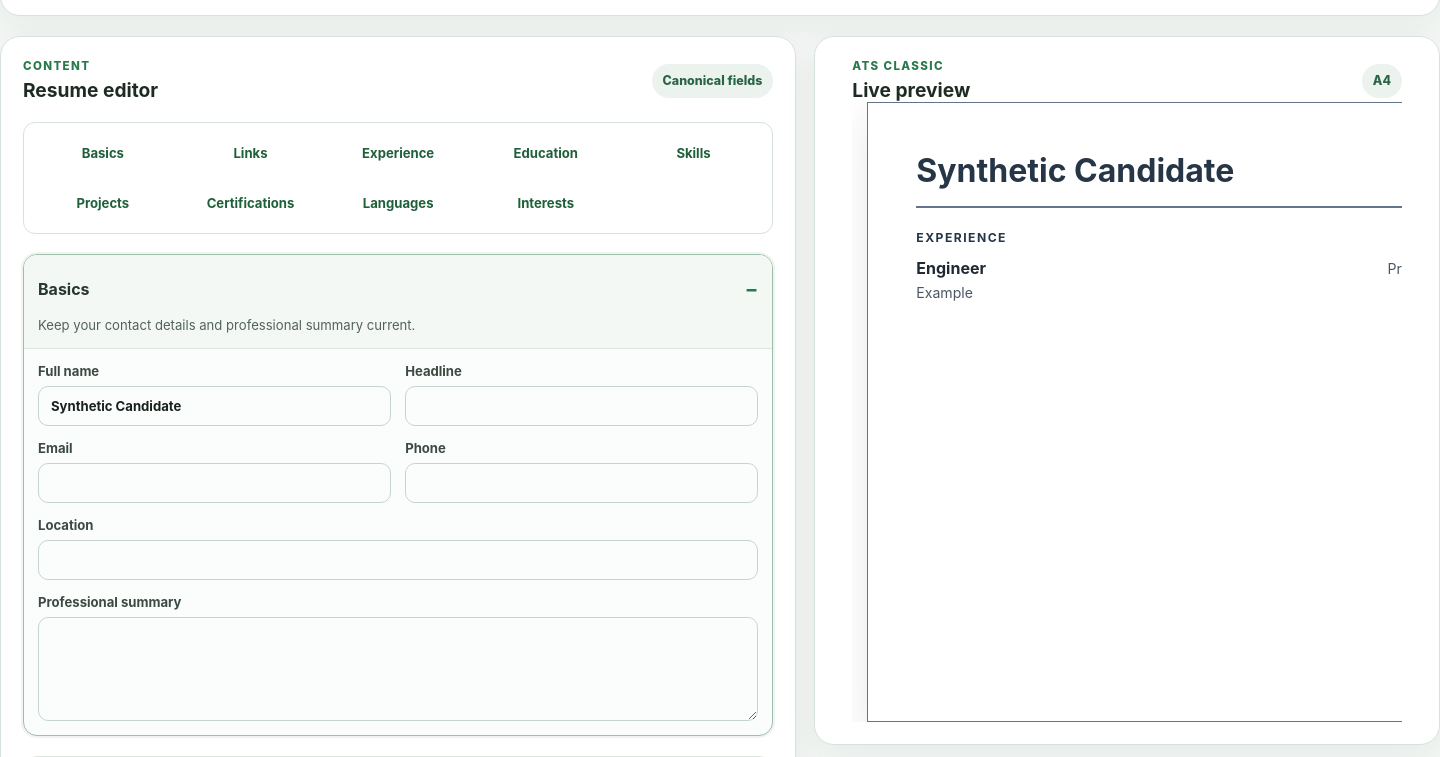
Test: ResumeWorkspace › preserves the draft after a authorization save failure
(page scrolled)
Replace the text in the field labelled "Full name" with "Preserved Draft Candidate" at (215, 406), box [38,386,391,426]
(page scrolled)
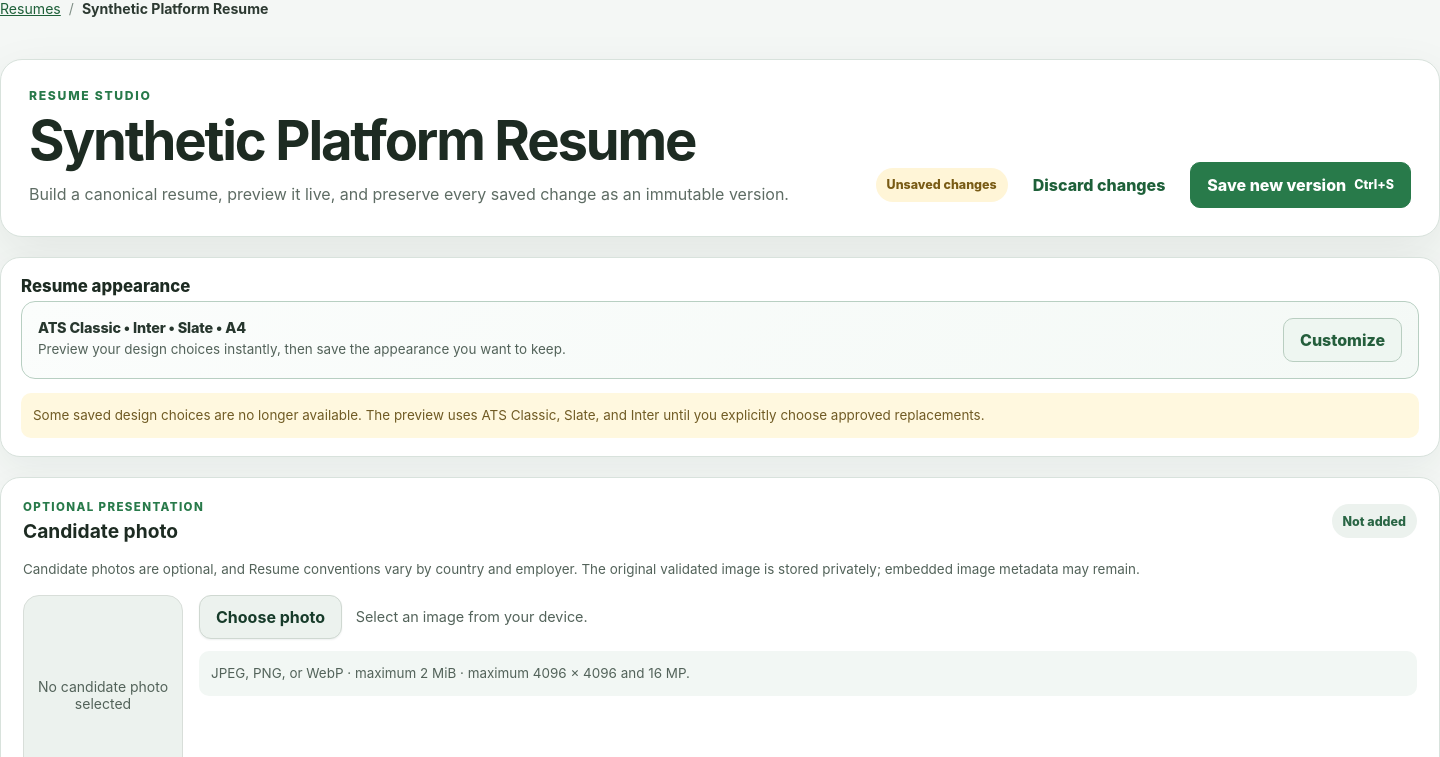
Click the button "Save new version Ctrl+S" at (1301, 185), box [1190,162,1411,208]
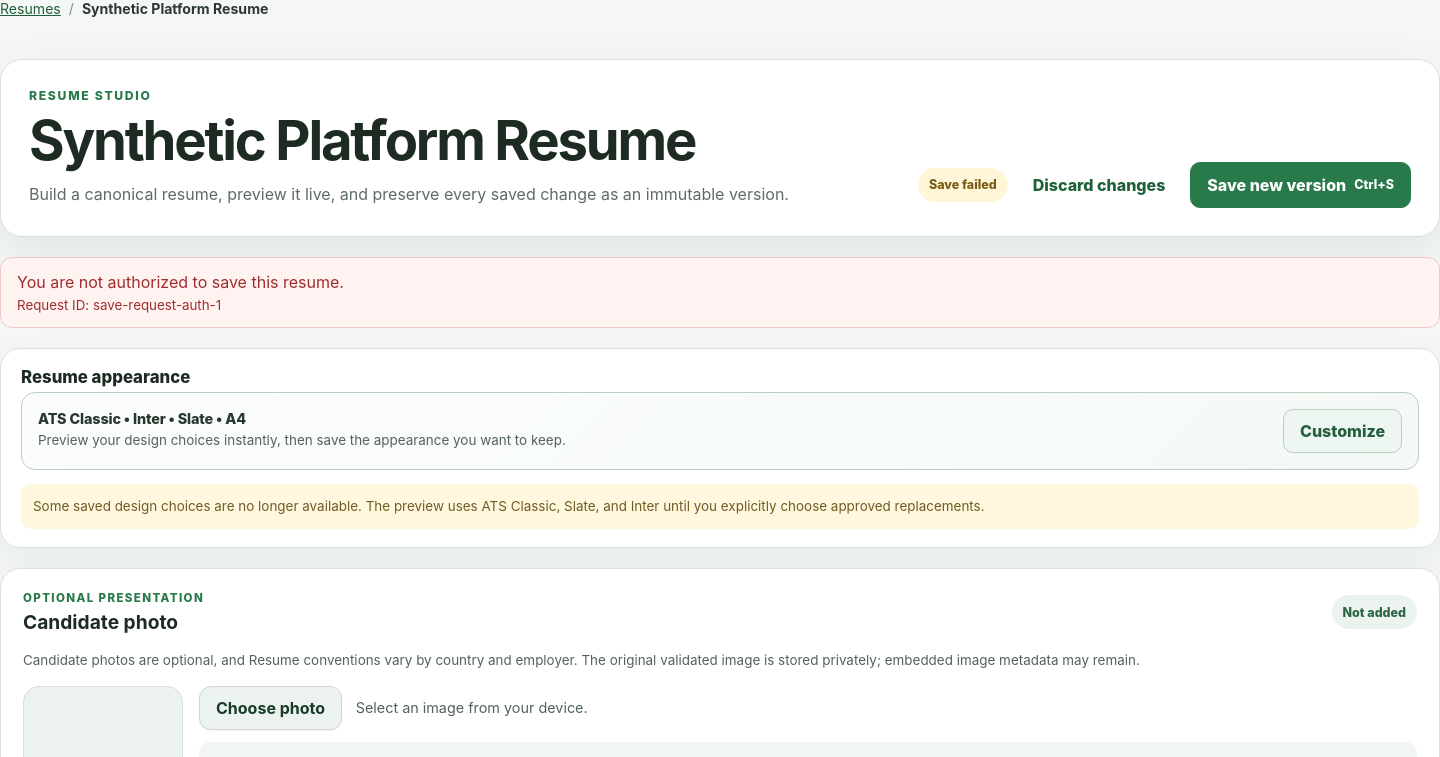
expect the text "You are not authorized to save this resume." is shown: met, box [17,272,344,292]
expect the text "Save failed" is shown: met, box [918,168,1008,202]
